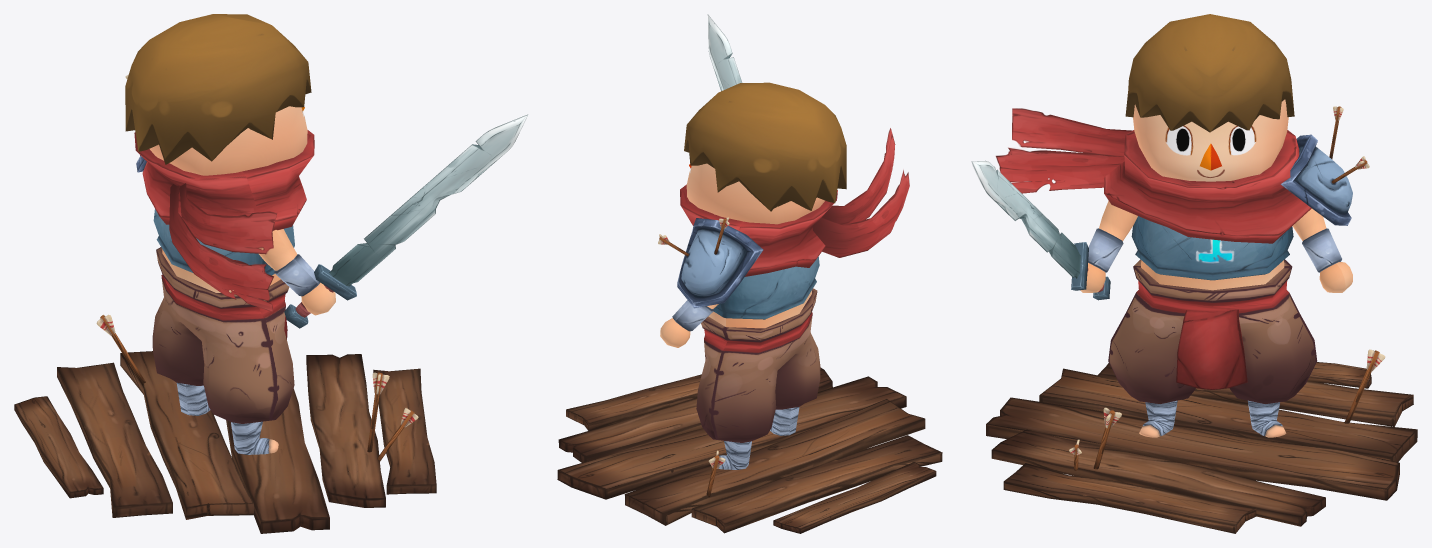
The model's file is animal_crossing_x_dead_cells_villager.glb.
3 renders of one model, left to right at view 1: azimuth 30°, elevation 25°; view 2: azimuth 150°, elevation 25°; view 3: azimuth 270°, elevation 25°, orthographic. The views are drawn at different scales.
Visible parts, largest first — view 1: cos, terra, espasabufanda; view 2: cos, terra, espasabufanda; view 3: cos, terra, espasabufanda.
Part boxes in pixels (<box>): cos: <box>96,14,418,461</box>; terra: <box>14,351,436,533</box>; espasabufanda: <box>134,114,528,328</box>; cos: <box>658,82,846,497</box>; terra: <box>557,368,942,533</box>; espasabufanda: <box>680,14,909,276</box>; cos: <box>1069,14,1385,470</box>; terra: <box>986,362,1417,533</box>; espasabufanda: <box>971,108,1311,300</box>.
Size of the model in its own units: 2.44 by 2.54 by 2.49.
Materials: 3 (3 with a texture image).
